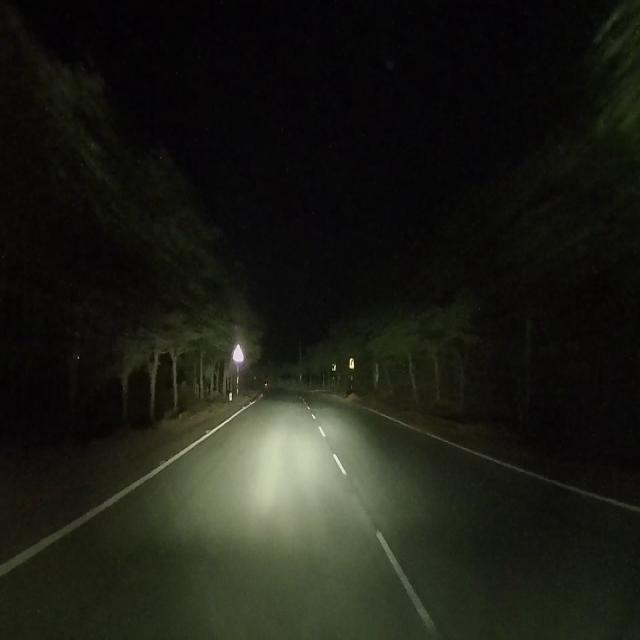right-hand-curve: (349, 358, 355, 368)
